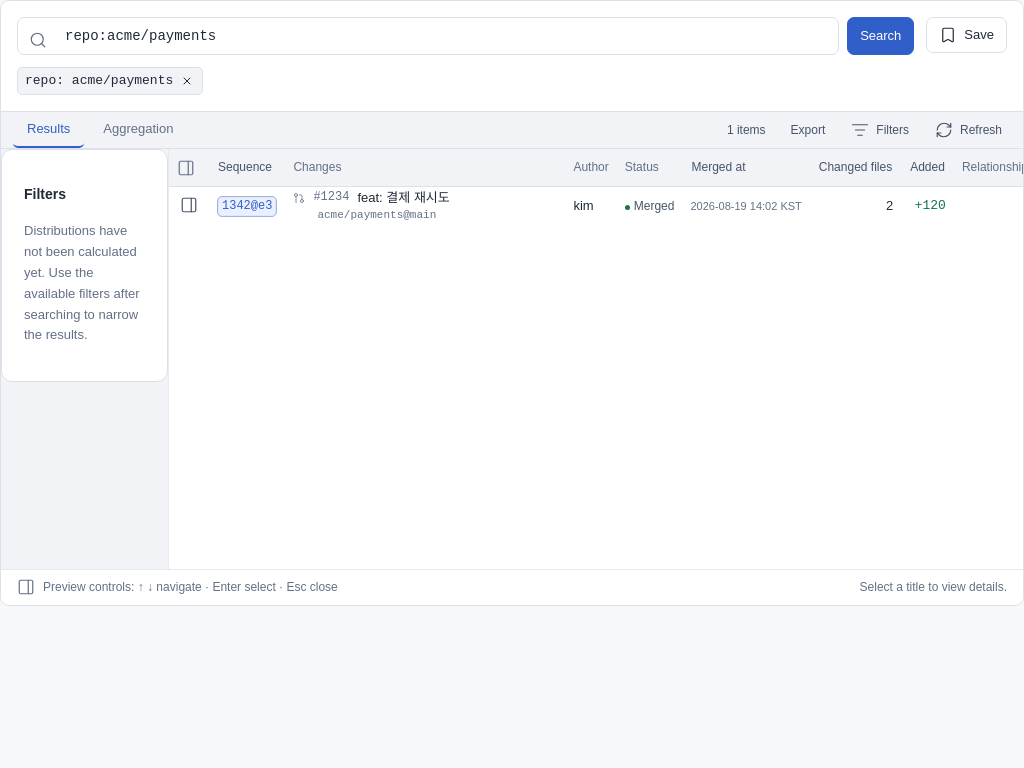
미리보기의 관계 요약 (CR-093, QA-W001-24) › 확인했고 관계가 없으면 「없음」이라고 말한다 — 「미확인」과 다른 문구다
The width and height of the screenshot is (1024, 768).
Click the button named "#1234 Preview".
click(189, 205)  # box [177,193,201,217]
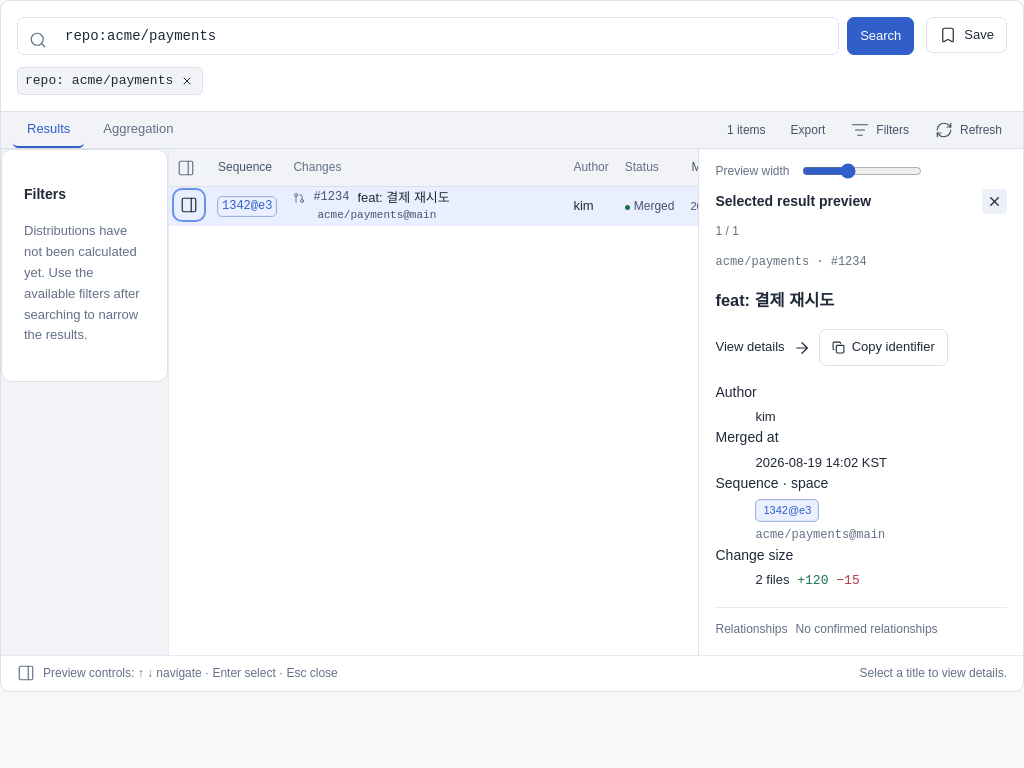
Expected: the element with test id "preview-relations" shows "No confirmed relationships", [796,622,938,636]
